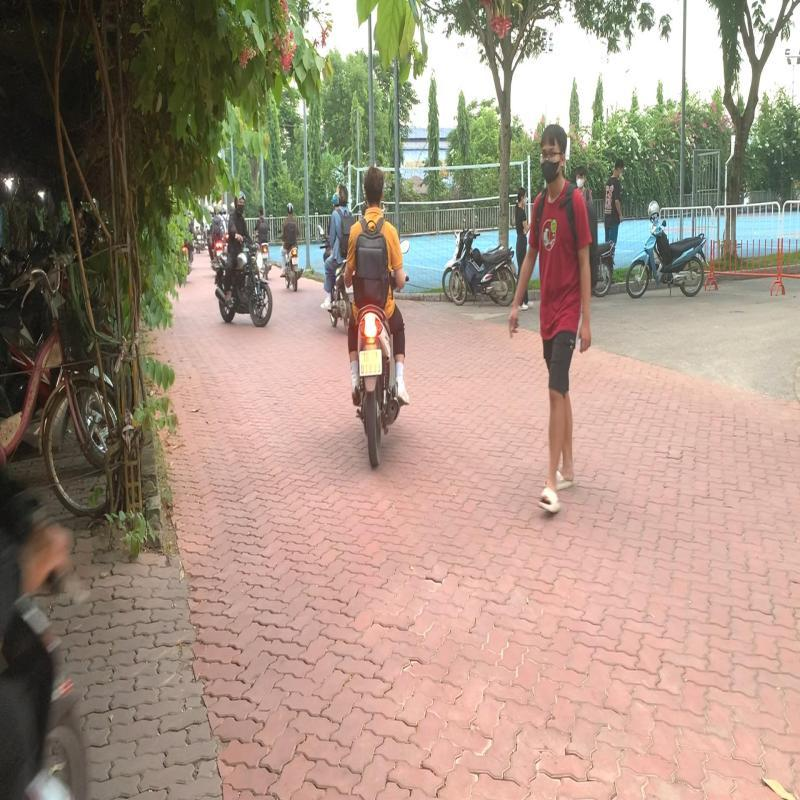licenseplate: (360, 350, 382, 376)
motorcyclist: (338, 159, 412, 474)
nohelmet: (364, 165, 384, 206)
